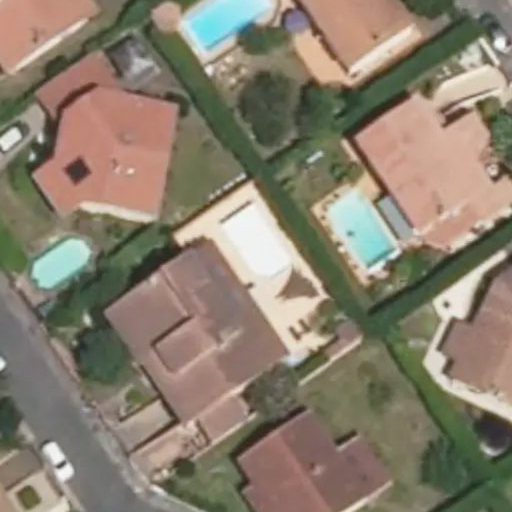pool: (225, 225, 292, 264)
